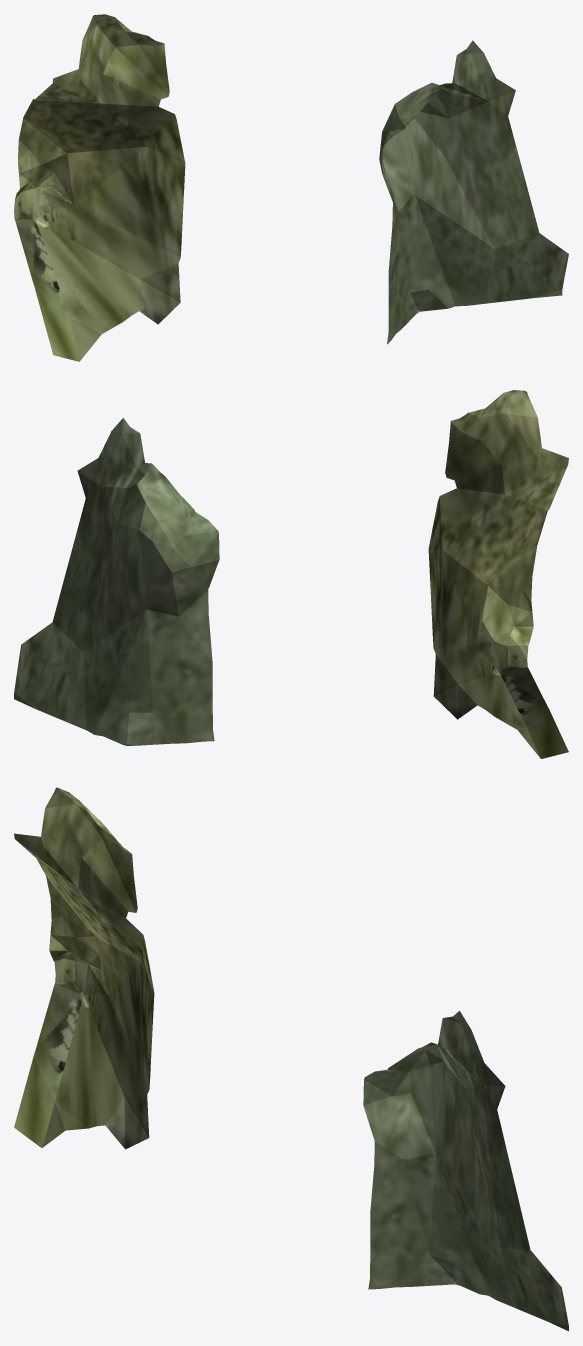
3 renders of one model, top to bottom at view 1: azimuth 30°, elevation 25°; view 2: azimuth 150°, elevation 25°; view 3: azimuth 330°, elevation 25°, orthographic. The views are drawn at different scales.
Bounding box in the file's own units: 2.95 × 2.19 × 0.4339.
1 material, 1 textured.
